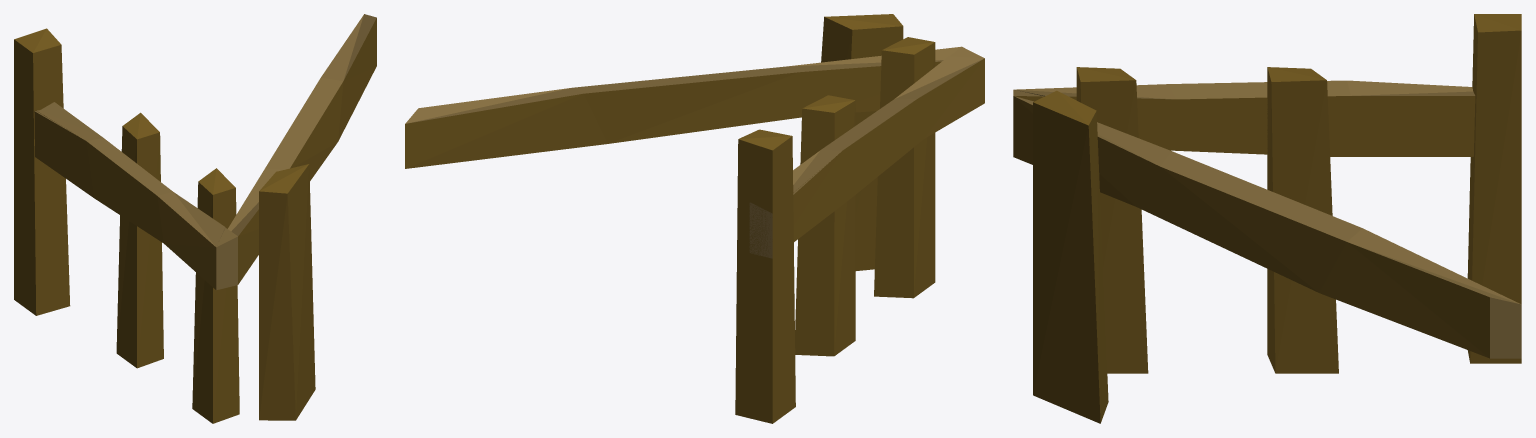
The picture shows the model from 3 angles, left to right: view 1: azimuth 30°, elevation 25°; view 2: azimuth 150°, elevation 25°; view 3: azimuth 270°, elevation 25°; orthographic projection. The views are drawn at different scales.
Size of the model in its own units: 128 by 92 by 128.
1 material, 1 textured.
